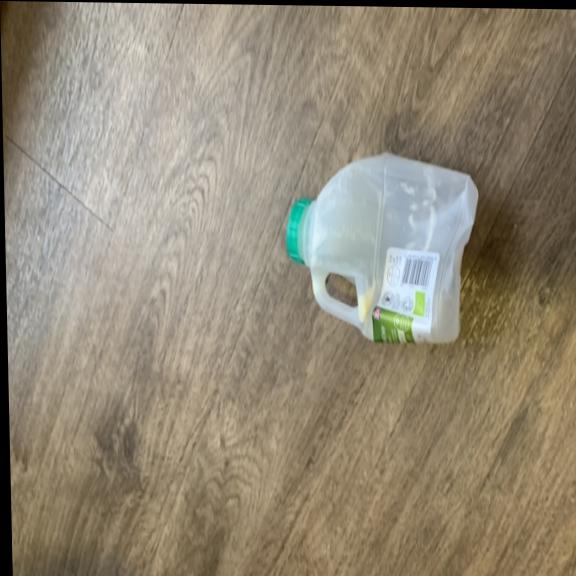Plastik: (277, 143, 486, 348)
